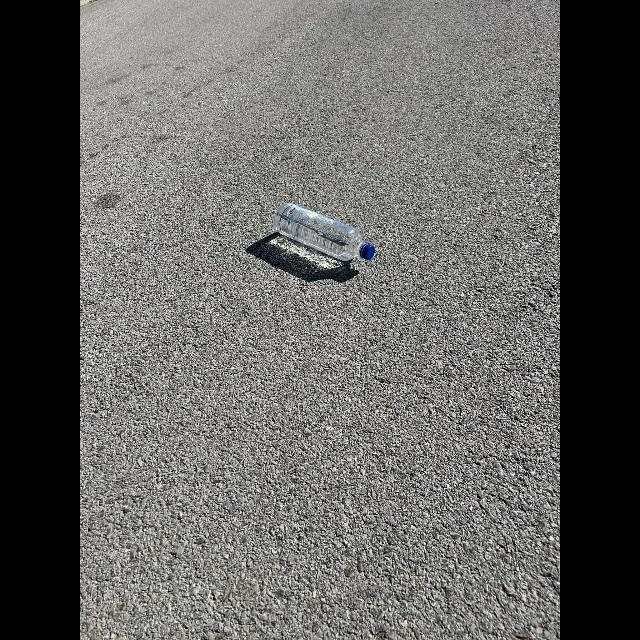trash: (268, 194, 380, 280)
